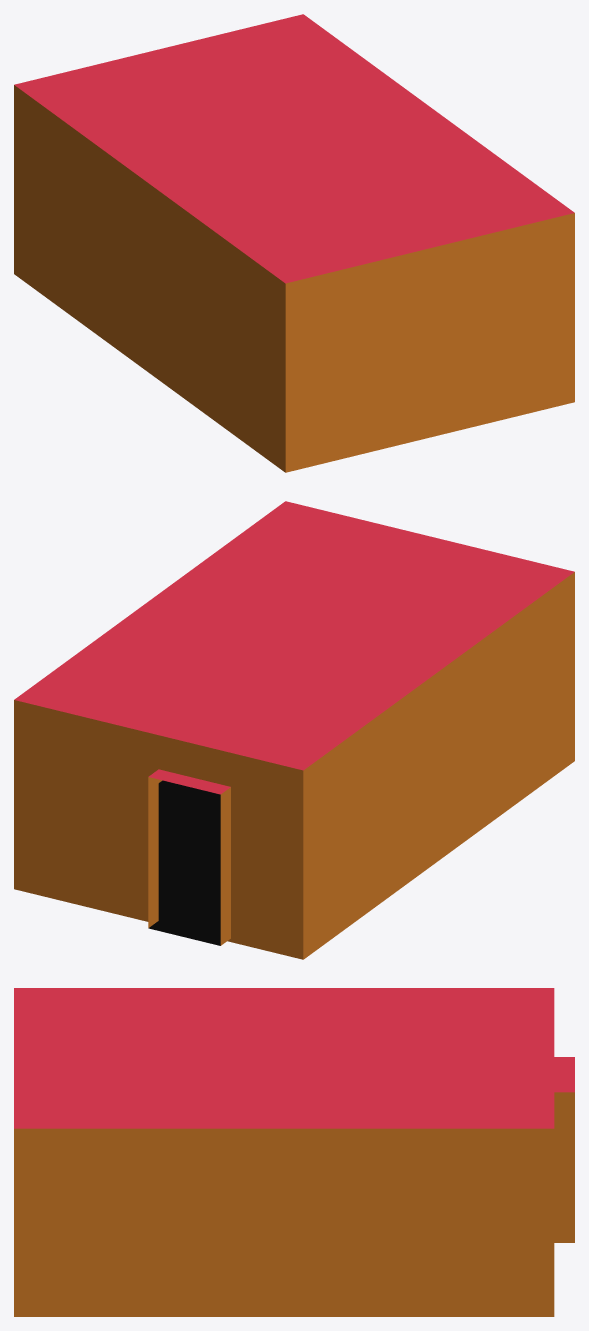
File: Floor1_BedroomAbbyMesh.gltf
The picture shows the model from 3 angles, top to bottom: view 1: azimuth 30°, elevation 25°; view 2: azimuth 150°, elevation 25°; view 3: azimuth 270°, elevation 25°; orthographic projection.
Visible parts, largest first — view 1: Floor1_BedroomAbbyMesh; view 2: Floor1_BedroomAbbyMesh; view 3: Floor1_BedroomAbbyMesh.
Part boxes in pixels (<box>): Floor1_BedroomAbbyMesh: <box>14,14,574,472</box>; Floor1_BedroomAbbyMesh: <box>14,501,574,959</box>; Floor1_BedroomAbbyMesh: <box>14,988,574,1316</box>.
Bounding box in the file's own units: 8 × 5 × 13.5.
